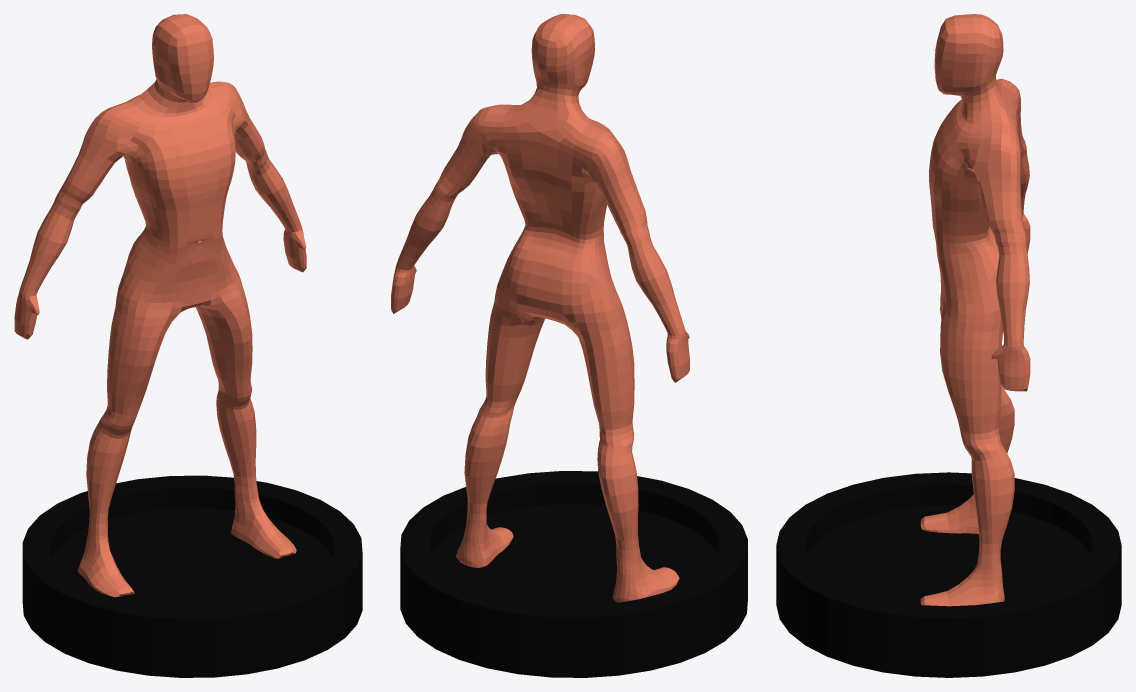
The model's file is Male.gltf.
3 views of the same model, side by side, from view 1: azimuth 30°, elevation 25°; view 2: azimuth 150°, elevation 25°; view 3: azimuth 270°, elevation 25° (orthographic). The views are drawn at different scales.
Parts seen in each view (by area): view 1: ZBrush_defualt_group, Cylinder; view 2: ZBrush_defualt_group, Cylinder; view 3: Cylinder, ZBrush_defualt_group.
Boxes of the visible parts, x1,y1,x2,y2 form: ZBrush_defualt_group: (14,14,306,597); Cylinder: (22,475,362,677); ZBrush_defualt_group: (391,14,689,602); Cylinder: (400,471,747,677); Cylinder: (776,472,1121,677); ZBrush_defualt_group: (920,14,1030,606).
Size of the model in its own units: 2.72 by 5.12 by 2.72.
